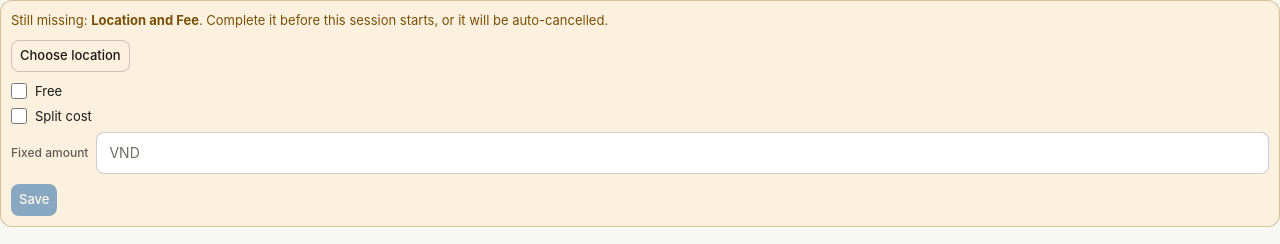
Test: SessionPreparingCompletion › Save starts disabled, and enables once any missing field gets a value — partial completion is allowed (SESSION-24 keeps the session PREPARING until both are set
The image size is (1280, 244).
Check: the button "Save" is disabled, box 11,184 -> 57,216
Click the checkbox labelled "Free" at [19, 91], box 11,83 -> 27,99
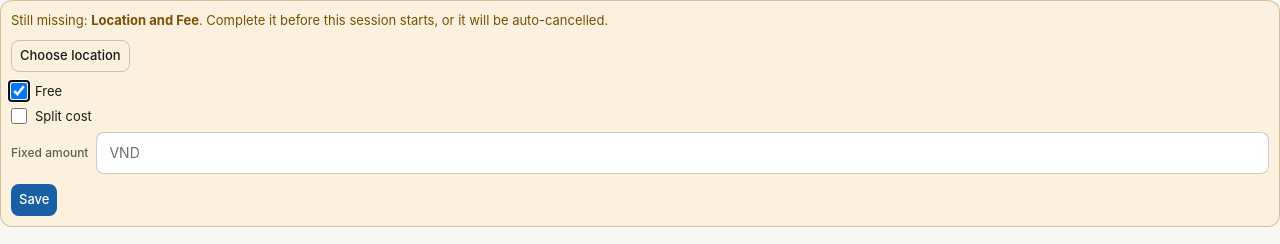
Check: the button "Save" is enabled, box 11,184 -> 57,216
